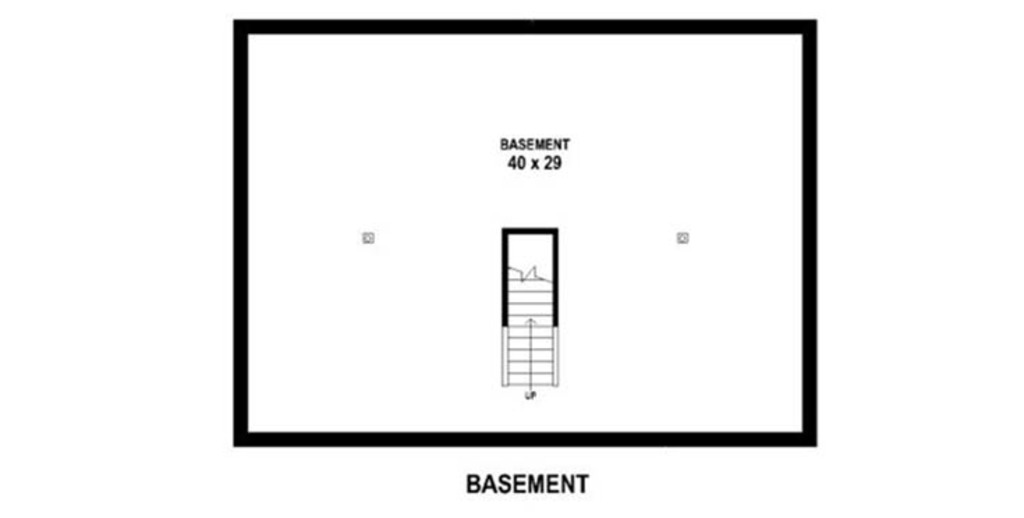stairs: (495, 226, 561, 393)
